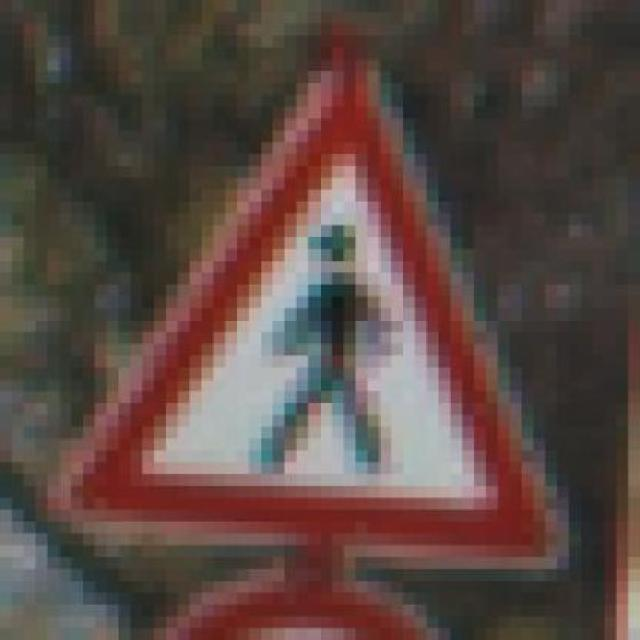Pedestrian Crossing: (48, 48, 569, 569)
